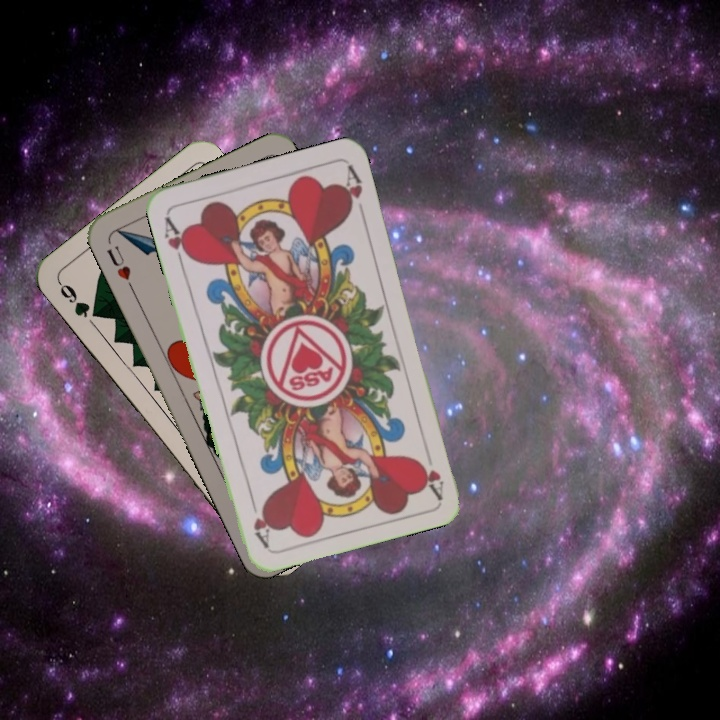G9: (54, 278, 104, 321)
HA: (160, 212, 195, 269), (414, 441, 446, 500)
HU: (102, 241, 137, 293)
